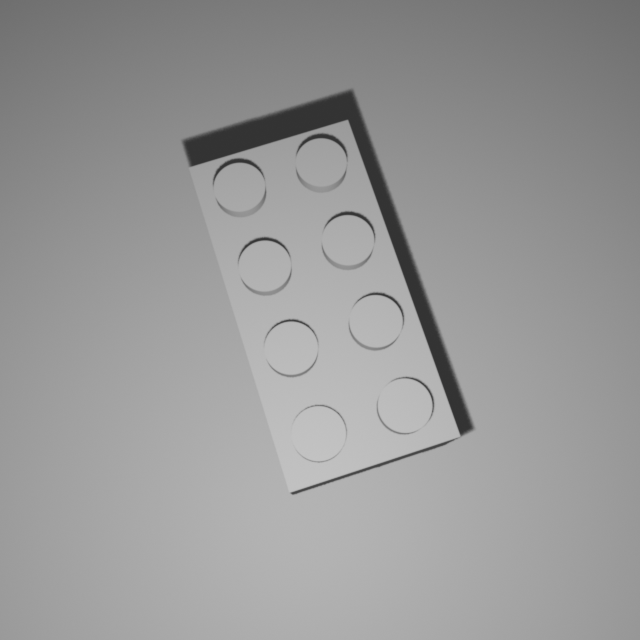lego_2x4: (186, 113, 463, 495)
